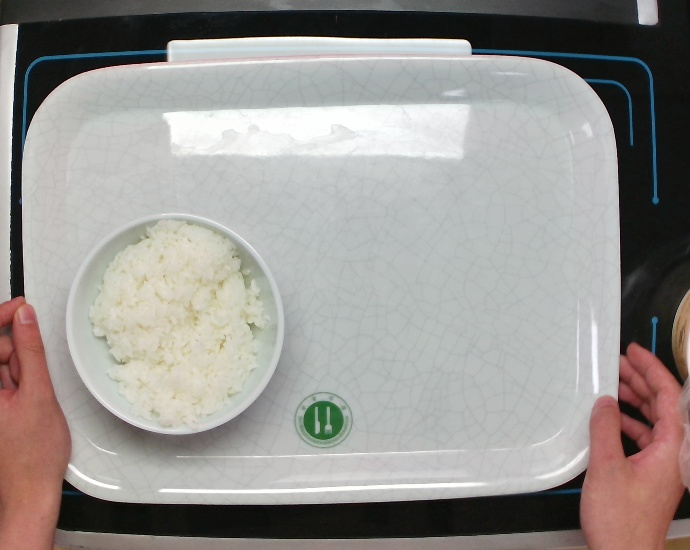JYsf-Fan_Wan: (62, 211, 286, 437)
